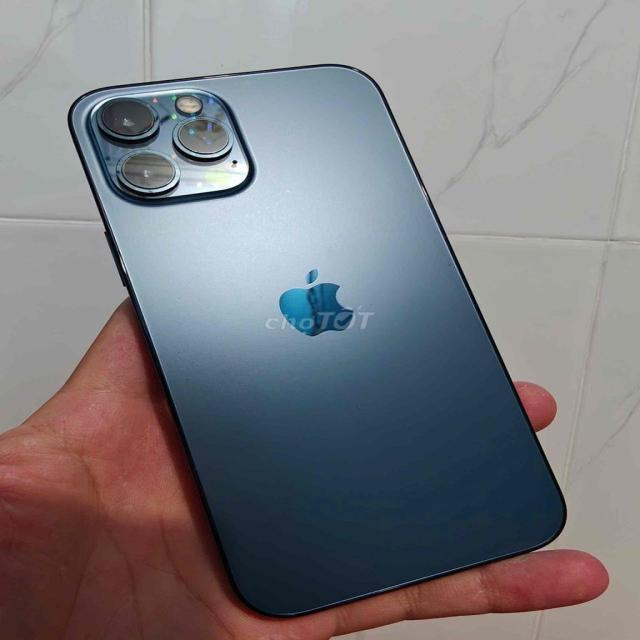gen_12_13: (67, 60, 570, 620)
